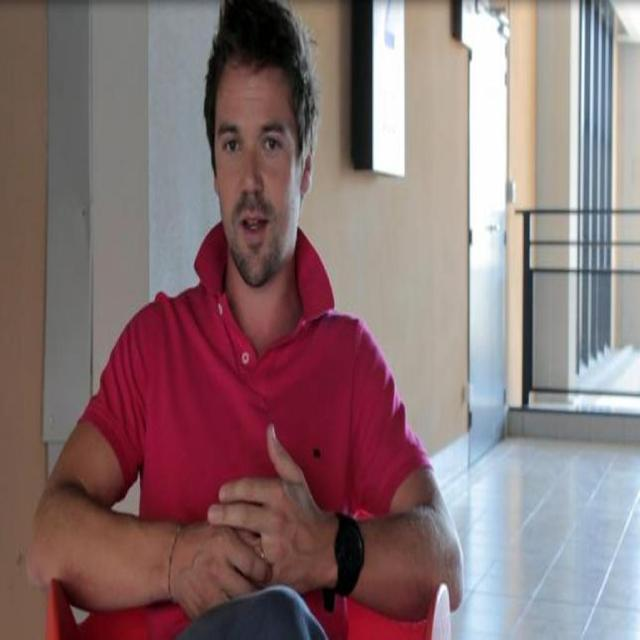Face: (213, 62, 304, 285)
